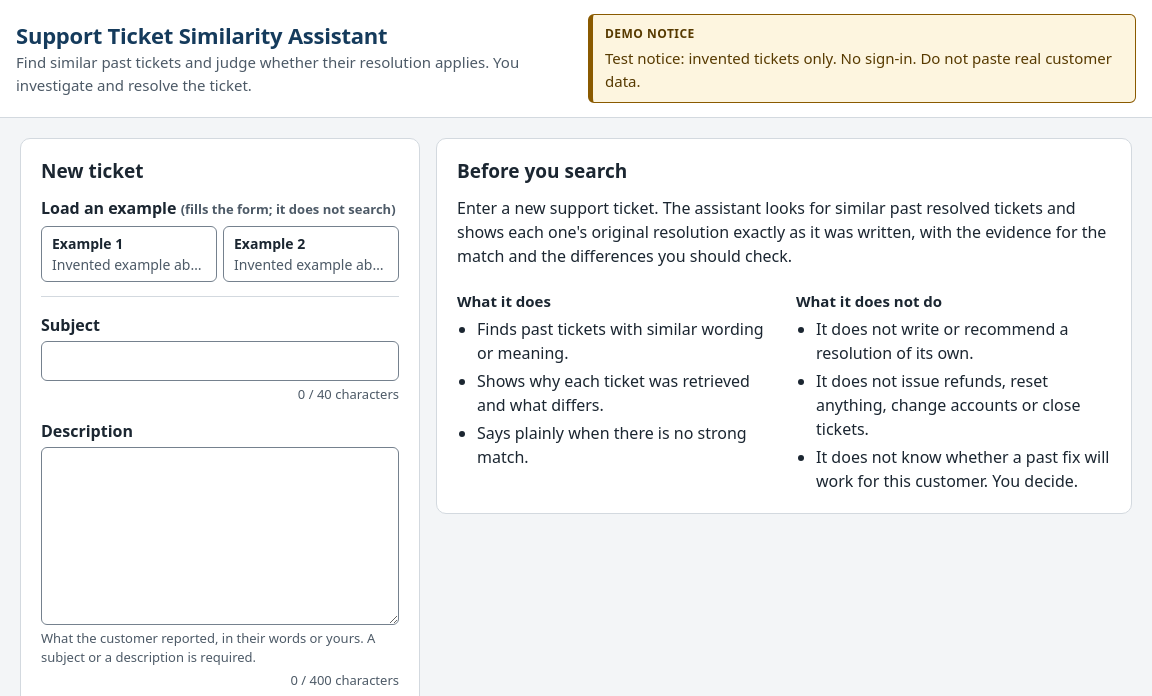
Test case: outcomes › treats an unrecognised status as a failure, not a blank screen
Expected: the heading "Before you search" is shown, top-left (457, 158), bottom-right (627, 184)
Type "Alpha problem" into the field labelled "Subject".
click(220, 361); type("Alpha problem")  # box top-left (41, 341), bottom-right (399, 381)
(page scrolled)
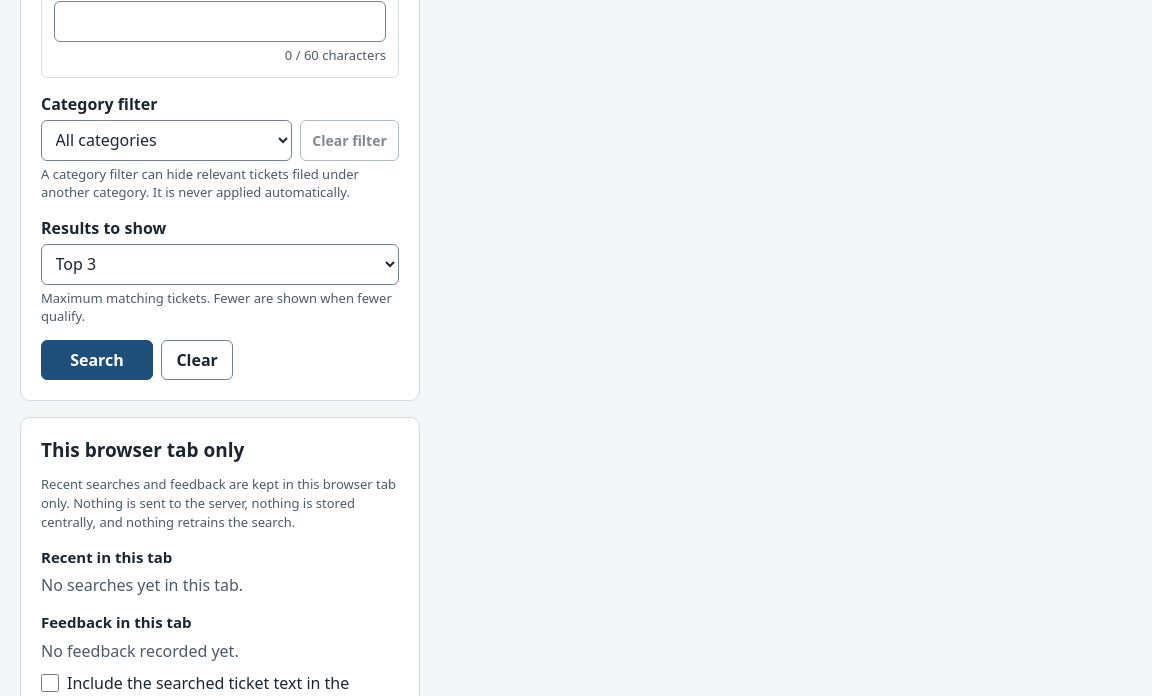
Click the button "Search".
click(97, 360)  # box top-left (41, 340), bottom-right (153, 380)
(page scrolled)
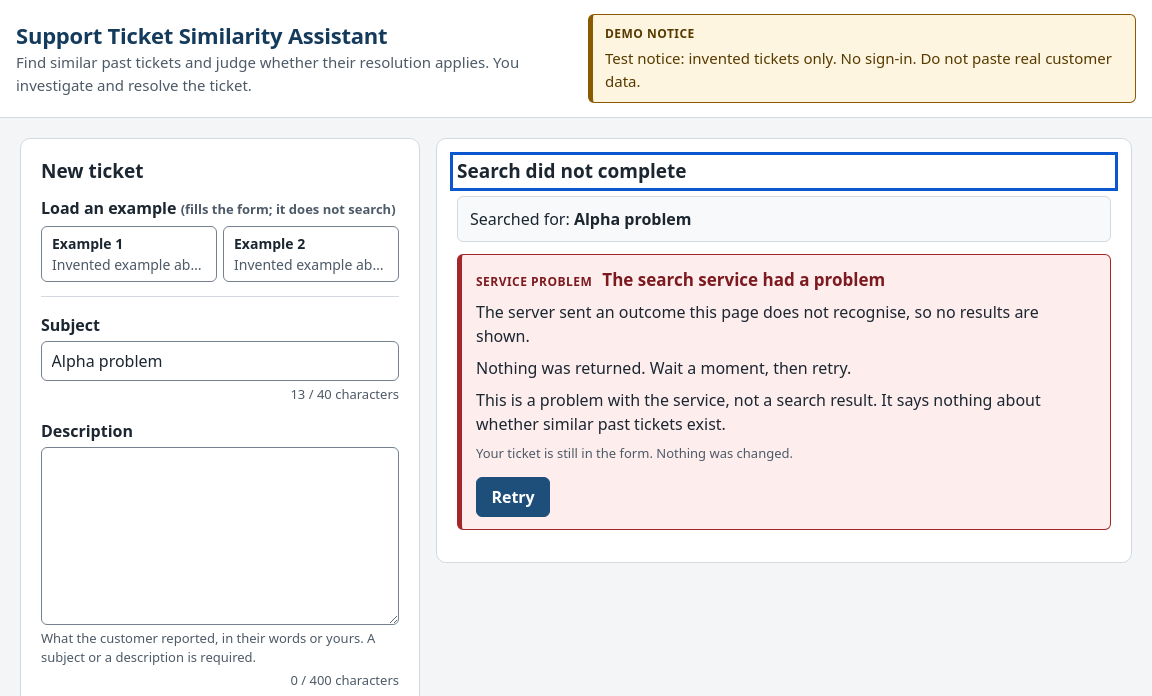
Now the heading "Search did not complete" is shown, box top-left (457, 158), bottom-right (686, 184)
Now the button "Retry" is shown, box top-left (476, 477), bottom-right (550, 517)
